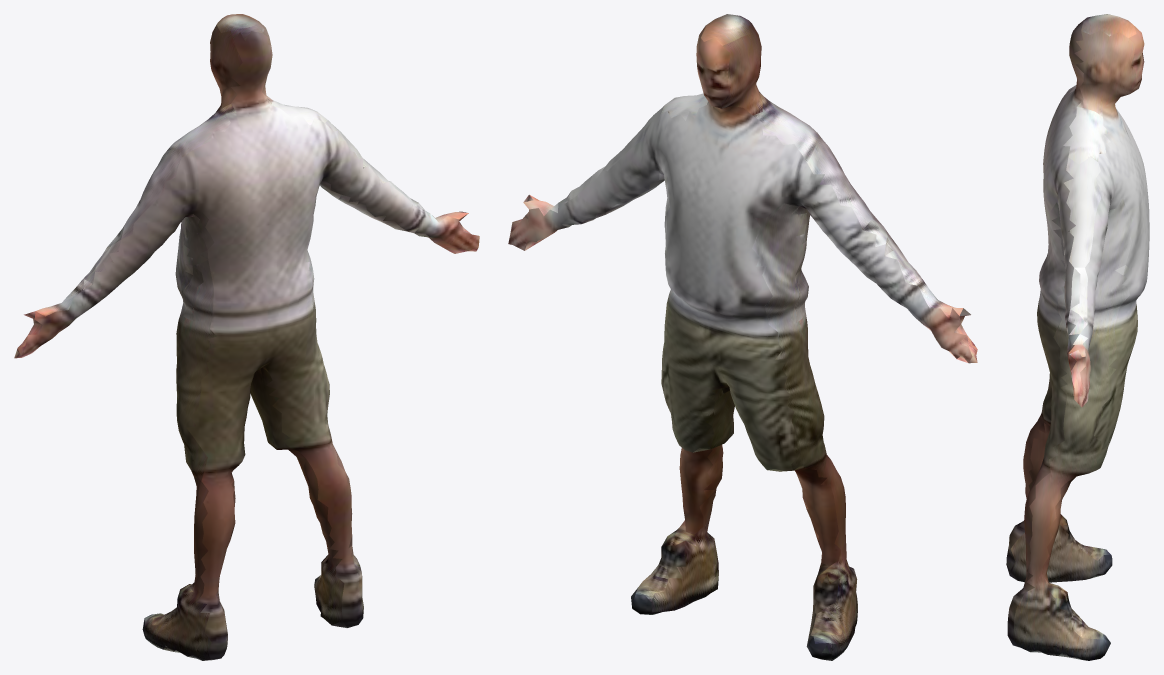
3 views of the same model, side by side, from view 1: azimuth 30°, elevation 25°; view 2: azimuth 150°, elevation 25°; view 3: azimuth 270°, elevation 25° (orthographic). The views are drawn at different scales.
Parts seen in each view (by area): view 1: world; view 2: world; view 3: world.
Part boxes in pixels (box(x1,y1,x2,y2)): world: box(14, 14, 479, 660); world: box(508, 14, 977, 660); world: box(1006, 14, 1149, 660).
Size of the model in its own units: 0.8016 by 1 by 0.2165.
Materials: 1 (1 with a texture image).
